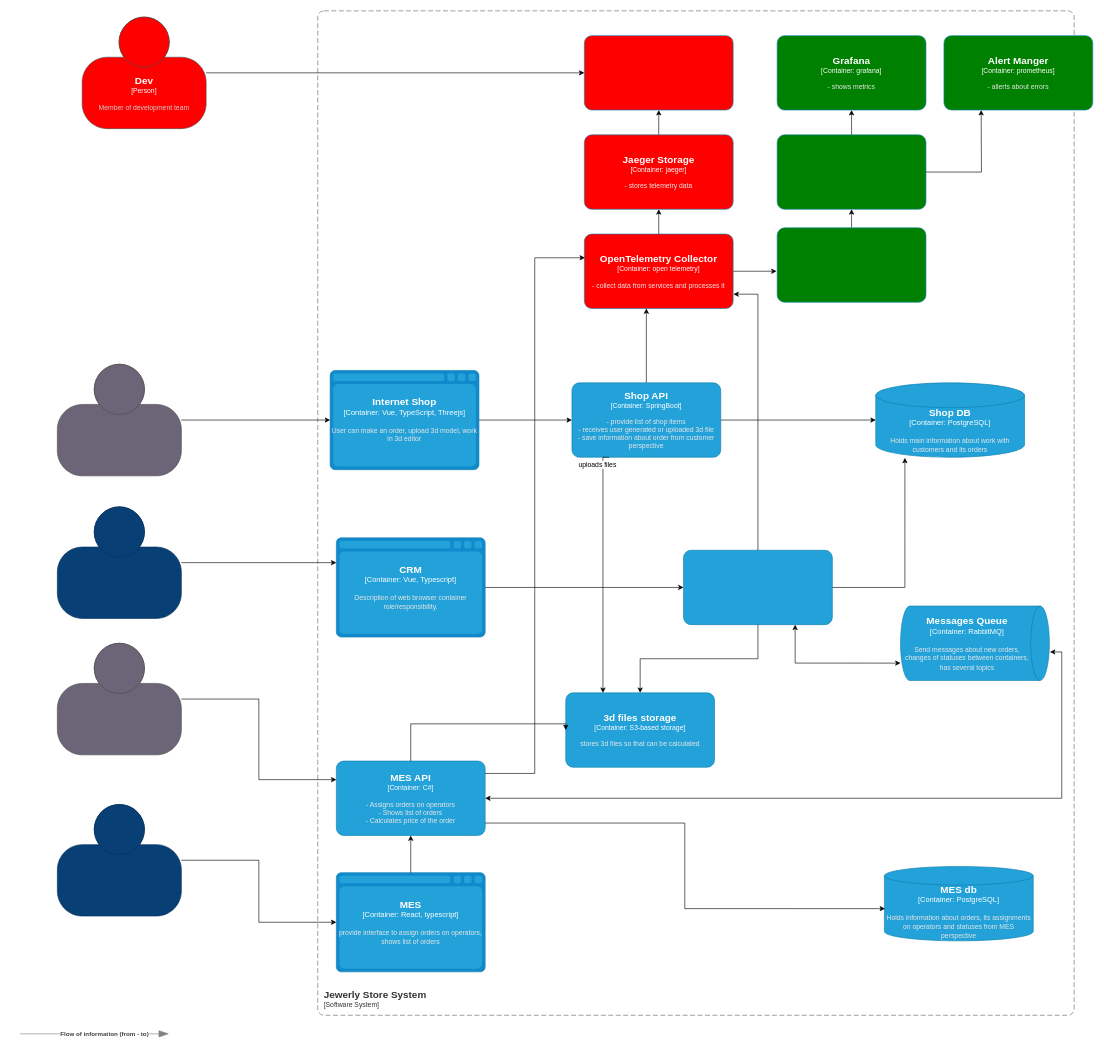
Some shapes in this 1104 by 1055 pixel diagram are drawn without their labels. The shapes that lost their labels are listed below. From the top down, each one's box as (x1, y1, x2, y2) in pixels, then its label:
(584, 35, 733, 110): Jaeger Tracing Ui [Container: jaeger] - shows tracing
(777, 134, 926, 209): Prometheus Server [Container: prometheus] - stores metrics
(777, 227, 926, 302): Span Metrics Connector [Container: open telemetry] - stores metrics
(57, 364, 181, 476): Customer [Person] Description of external person.
(57, 506, 181, 618): Seller [Person] Operates with order, confirms manufacturing for the user
(683, 550, 832, 625): CRM API [Container: SpringBoot] Description of container role/responsibility.
(57, 643, 181, 755): API user [Person] Description of external person.
(57, 804, 181, 916): Operator [Person] Takes order in work, manufactures jewerly
